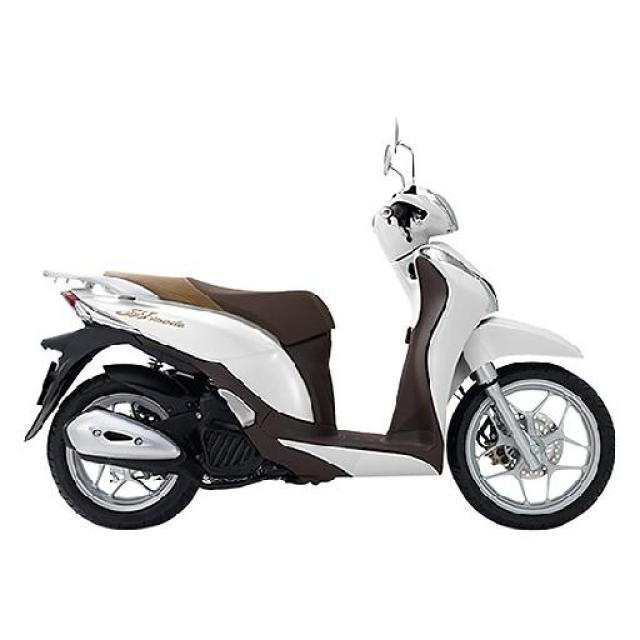All: (25, 124, 620, 533)
Head: (364, 178, 468, 247)
Tail: (38, 259, 118, 331)
